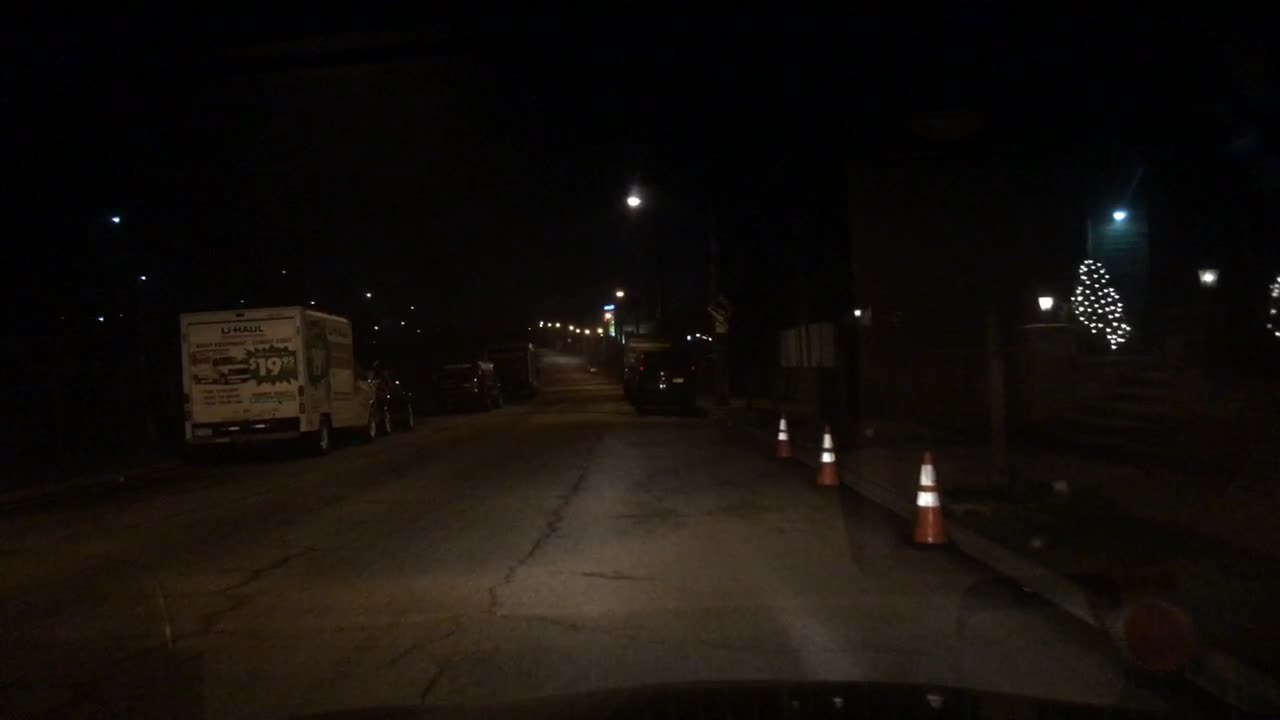car: (627, 347, 702, 412), (424, 357, 507, 411), (362, 357, 418, 437)
traffic sign: (707, 293, 737, 323)
truck: (177, 306, 378, 463), (620, 332, 677, 401), (482, 337, 543, 401)
